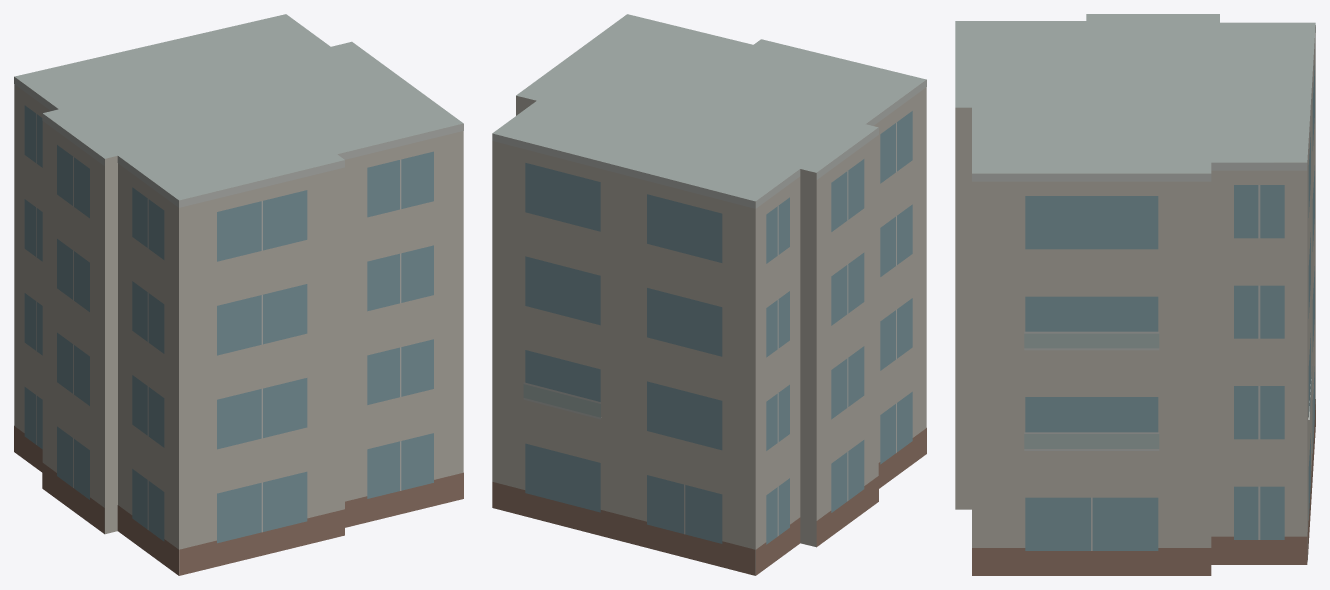
The model's file is survey-upis-32487116.glb.
The picture shows the model from 3 angles, left to right: view 1: azimuth 30°, elevation 25°; view 2: azimuth 150°, elevation 25°; view 3: azimuth 270°, elevation 25°; orthographic projection. The views are drawn at different scales.
Visible parts, largest first — view 1: survey-upis-32487116.tmp; view 2: survey-upis-32487116.tmp; view 3: survey-upis-32487116.tmp.
Boxes of the visible parts, <box> form: survey-upis-32487116.tmp: <box>14,14,463,575</box>; survey-upis-32487116.tmp: <box>492,14,926,575</box>; survey-upis-32487116.tmp: <box>955,14,1315,575</box>.
Size of the model in its own units: 10.57 by 12.35 by 10.05.
